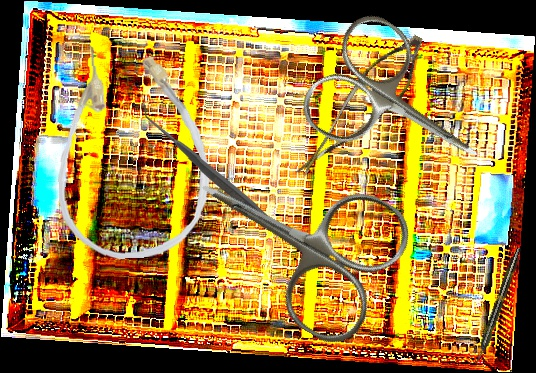Cannula: (51, 40, 213, 262)
Handpiece: (472, 245, 524, 366)
Iris Scissors: (166, 119, 421, 354), (291, 5, 513, 211)
Micro Scissor: (294, 17, 433, 202)
Spatula Surgical: (141, 104, 316, 270)
